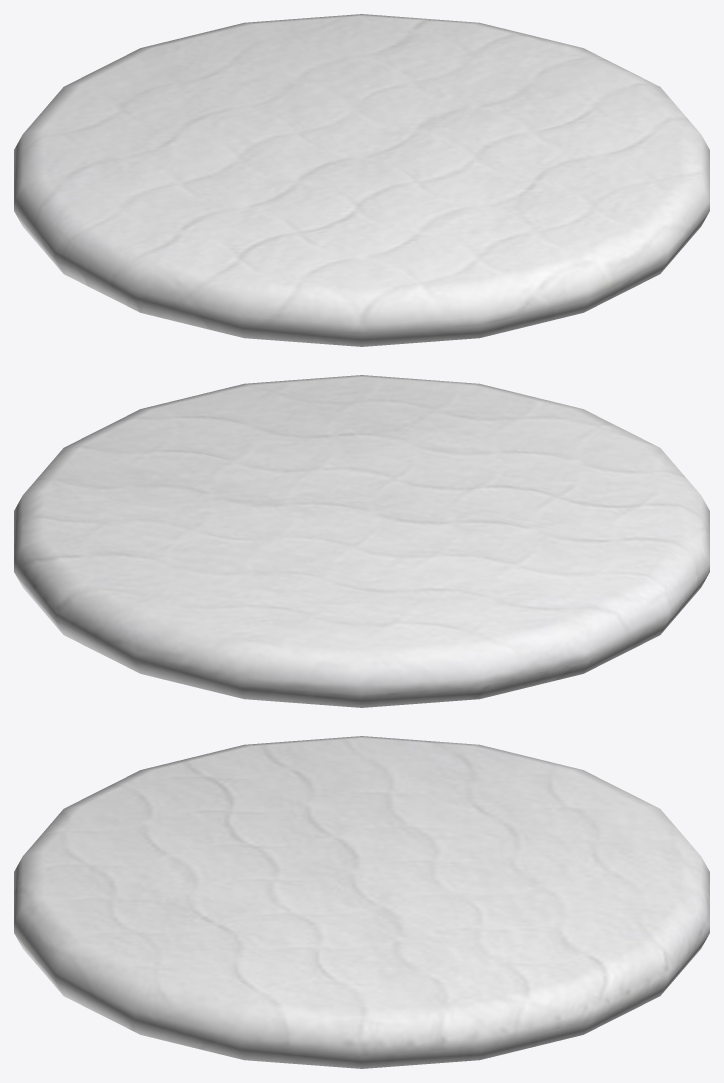
The model's file is tampon.fbx.
The picture shows the model from 3 angles, top to bottom: view 1: azimuth 30°, elevation 25°; view 2: azimuth 150°, elevation 25°; view 3: azimuth 270°, elevation 25°; orthographic projection.
Parts seen in each view (by area): view 1: tampon; view 2: tampon; view 3: tampon.
Part boxes in pixels (x1,y1,x2,y2): tampon: (14, 14, 709, 346); tampon: (14, 375, 709, 707); tampon: (14, 736, 709, 1068).
Size of the model in its own units: 41.66 by 3.6 by 41.03.
